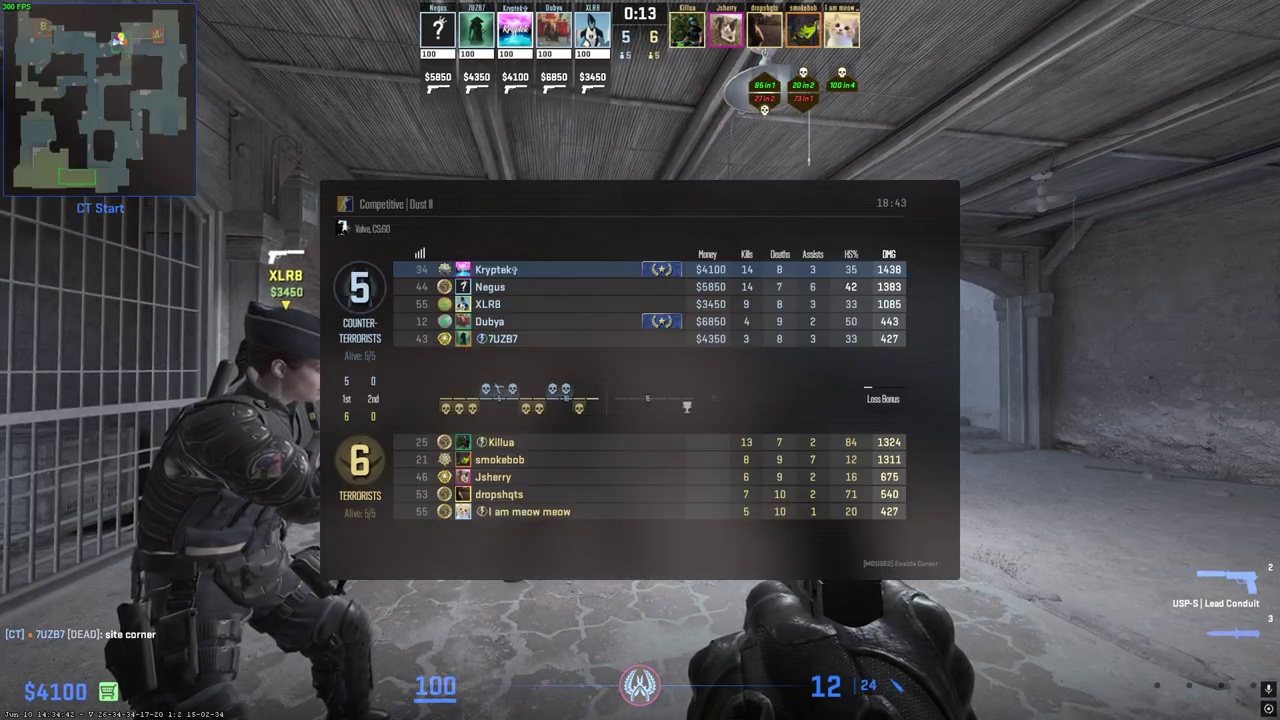CT: (123, 314, 319, 717)
